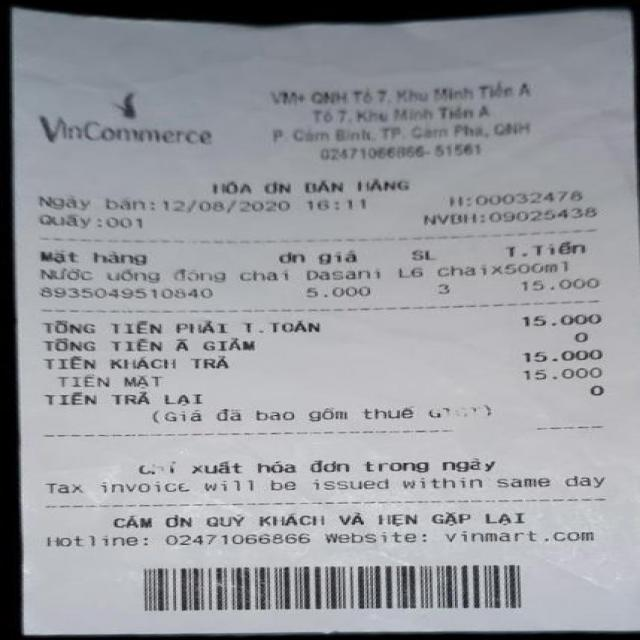Date: (159, 195, 293, 219)
Store_Name: (18, 82, 230, 154)
Total_Amount: (19, 308, 630, 336)
